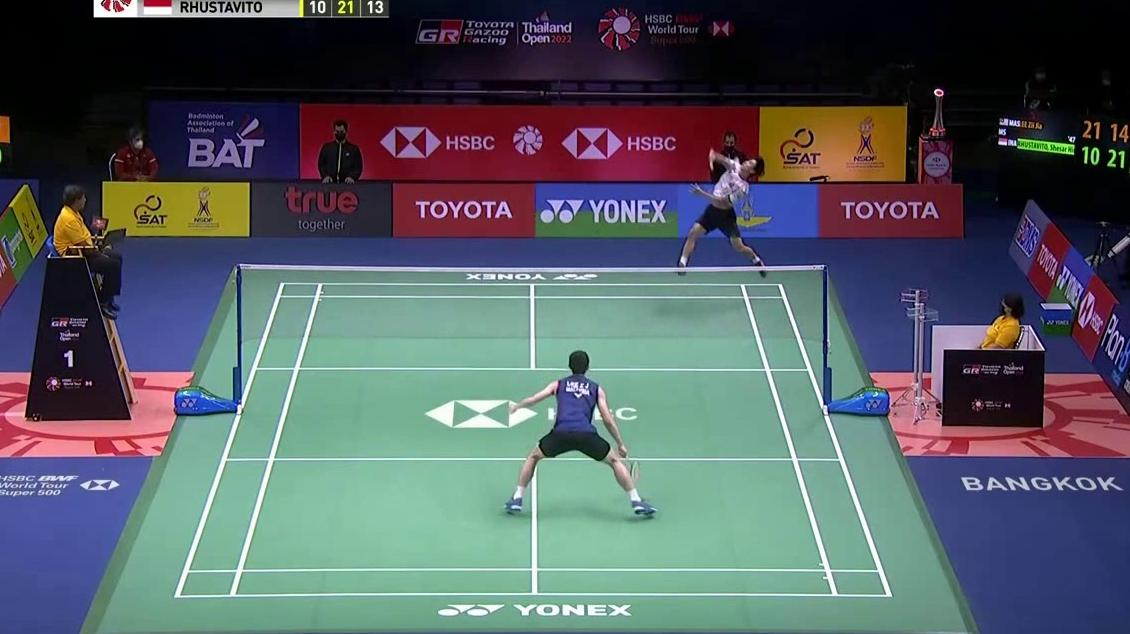racket: (618, 449, 642, 485), (705, 145, 719, 173)
shuttle: (733, 154, 742, 168)
